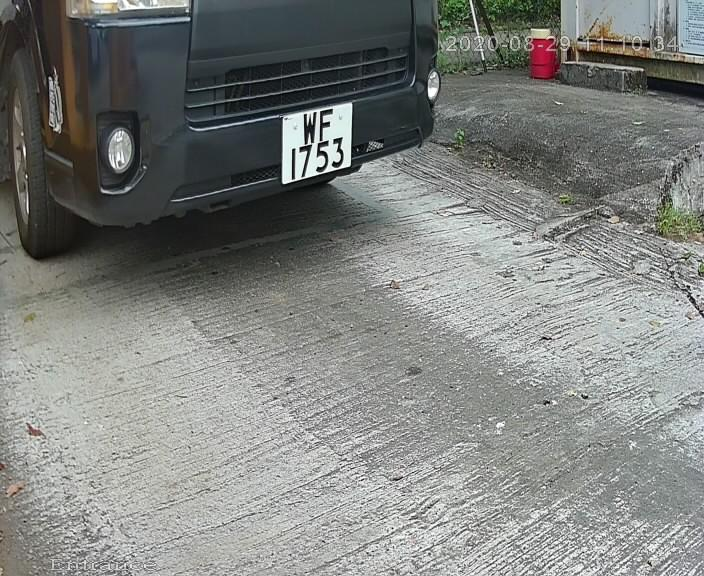License Plate: (268, 98, 362, 191)
